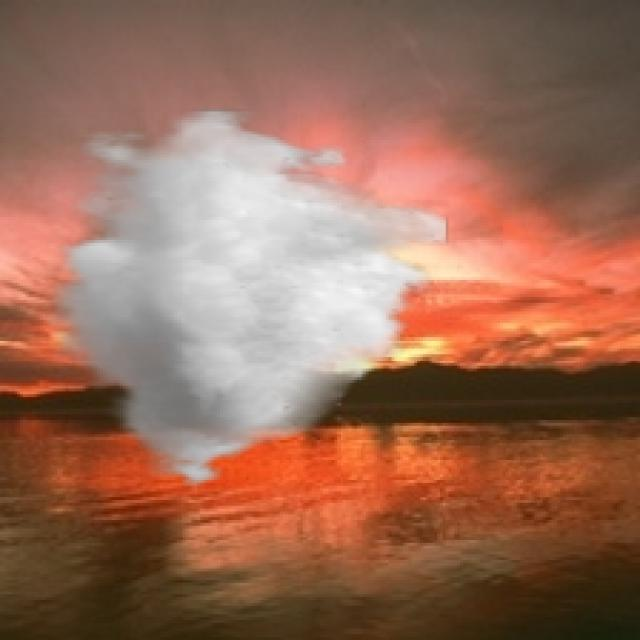Smoke: (46, 108, 448, 494)
